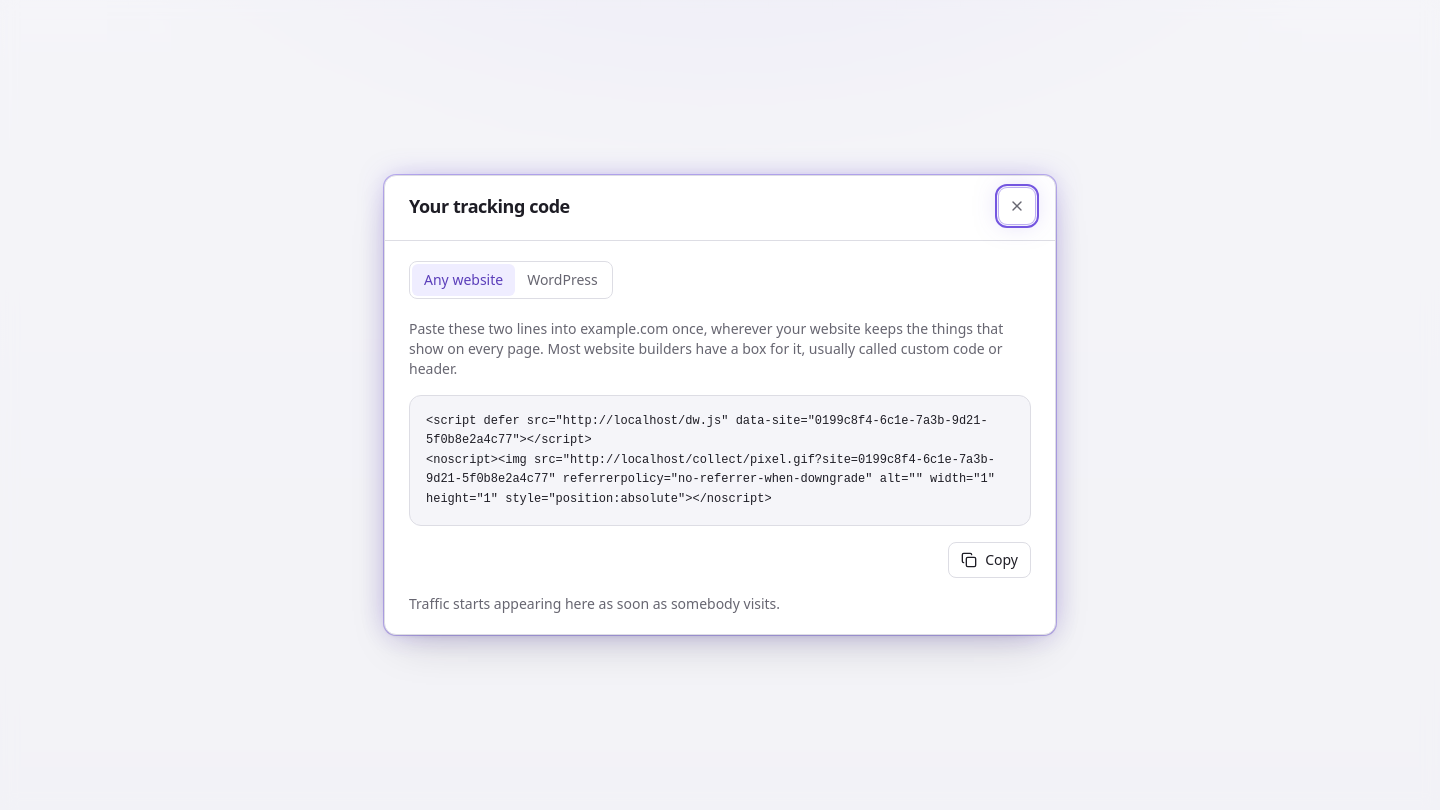
it: the tracking code somebody is given › hands the whole thing over when it is copied, and says so
Click the button "Copy": (990, 560) [948, 542, 1031, 578]
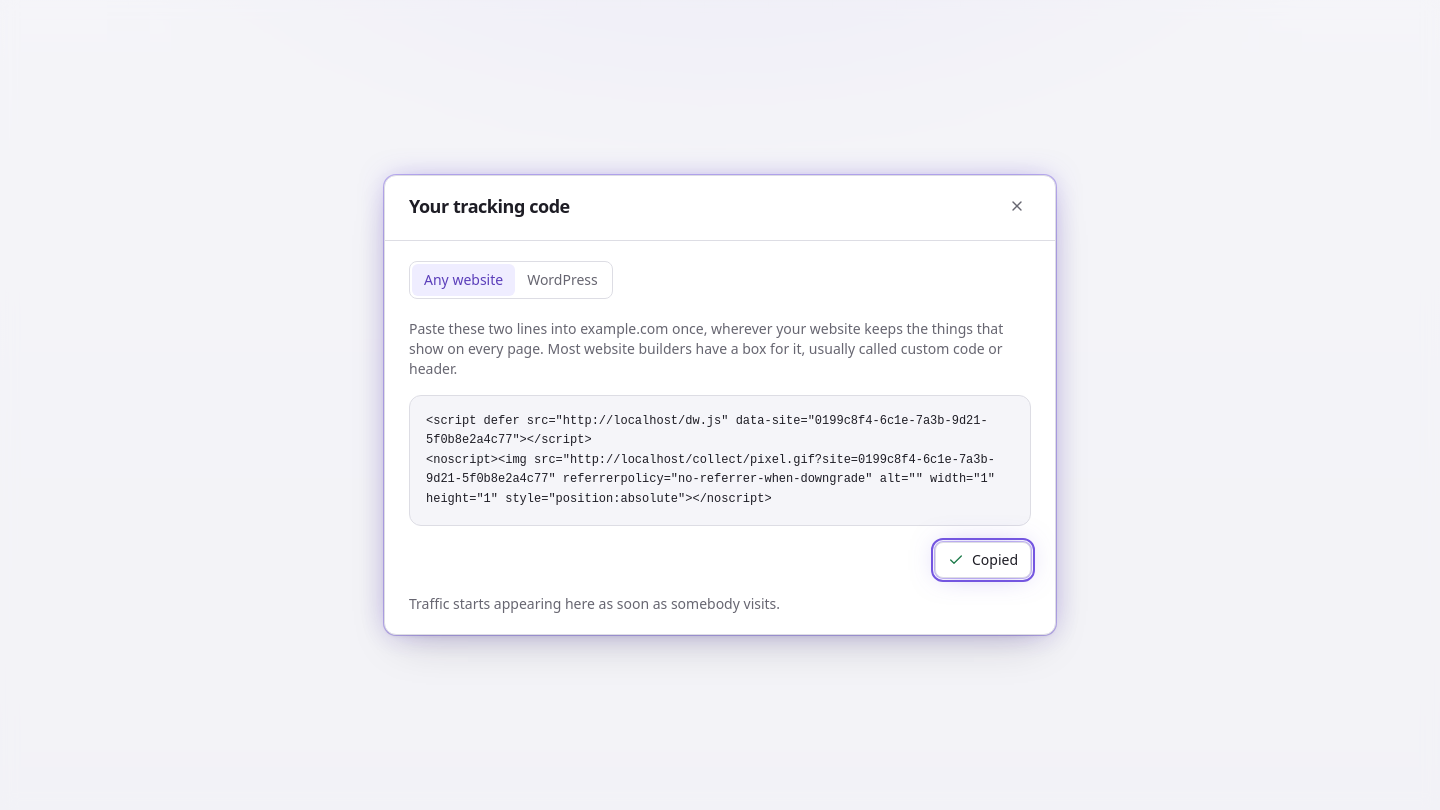
Now the button "Copied" is shown, box [935, 542, 1031, 578]
